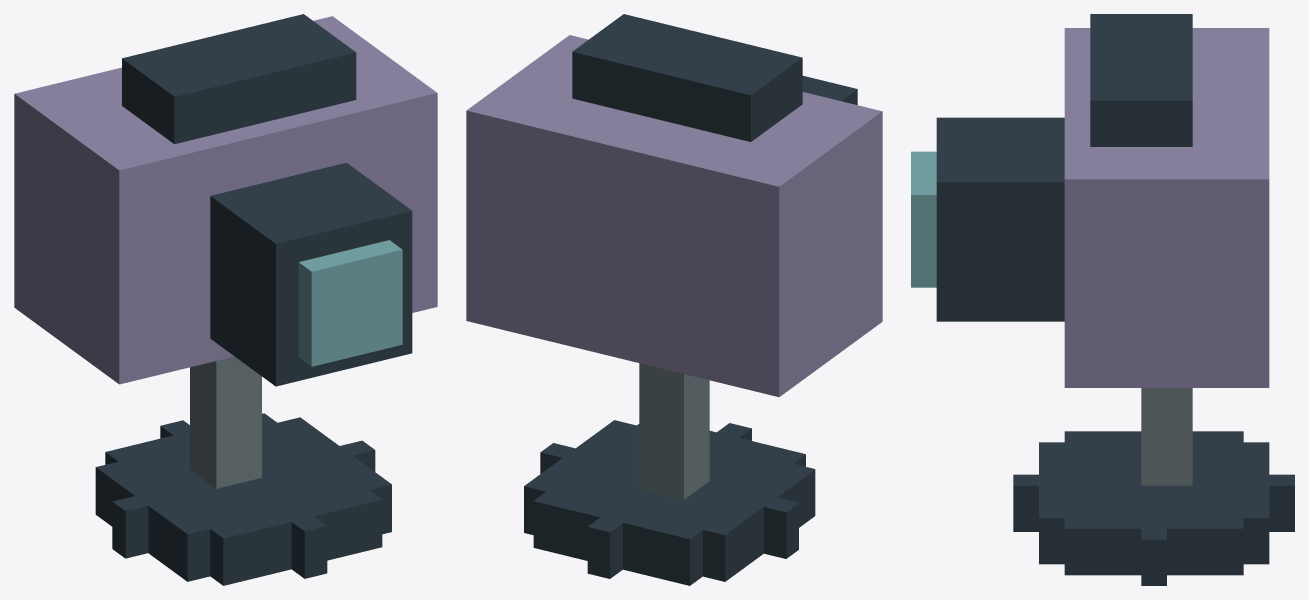
Rendered from astronomy-16.glb.
3 renders of one model, left to right at view 1: azimuth 30°, elevation 25°; view 2: azimuth 150°, elevation 25°; view 3: azimuth 270°, elevation 25°, orthographic. The views are drawn at different scales.
Visible parts, largest first — view 1: Astronomy camera; view 2: Astronomy camera; view 3: Astronomy camera.
Part boxes in pixels (x1=…): Astronomy camera: x1=14, y1=14, x2=437, y2=585; Astronomy camera: x1=466, y1=14, x2=882, y2=585; Astronomy camera: x1=911, y1=14, x2=1294, y2=585.
Bounding box in the file's own units: 1.12 × 1.6 × 1.2.
